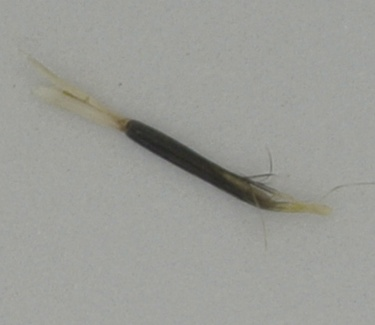เมล้ดปลายพู่กัน: (18, 48, 334, 256)
